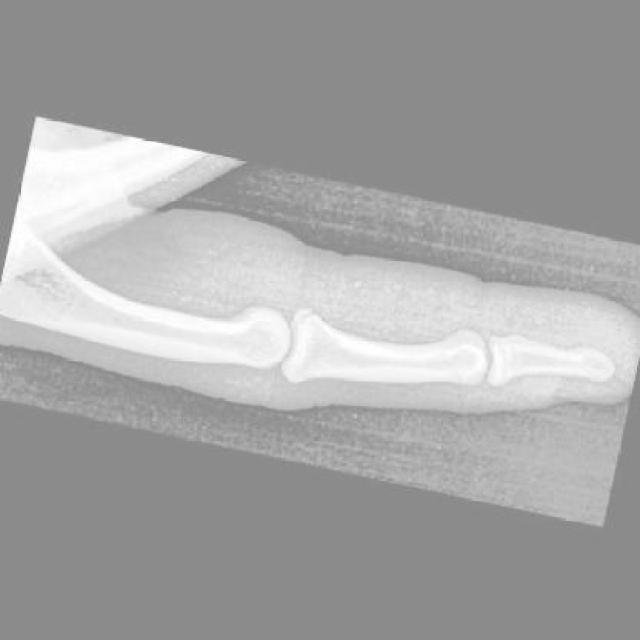Fracture: (293, 303, 319, 326)
